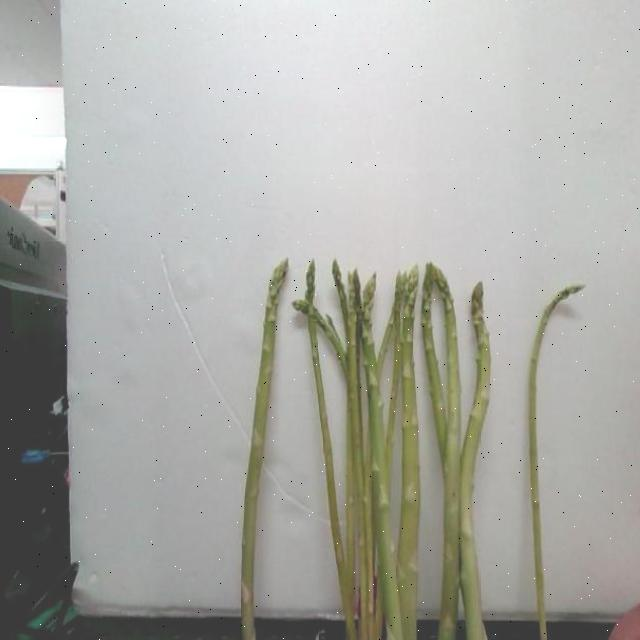aspargus: (529, 285, 586, 640), (242, 262, 289, 640), (456, 286, 493, 640)
